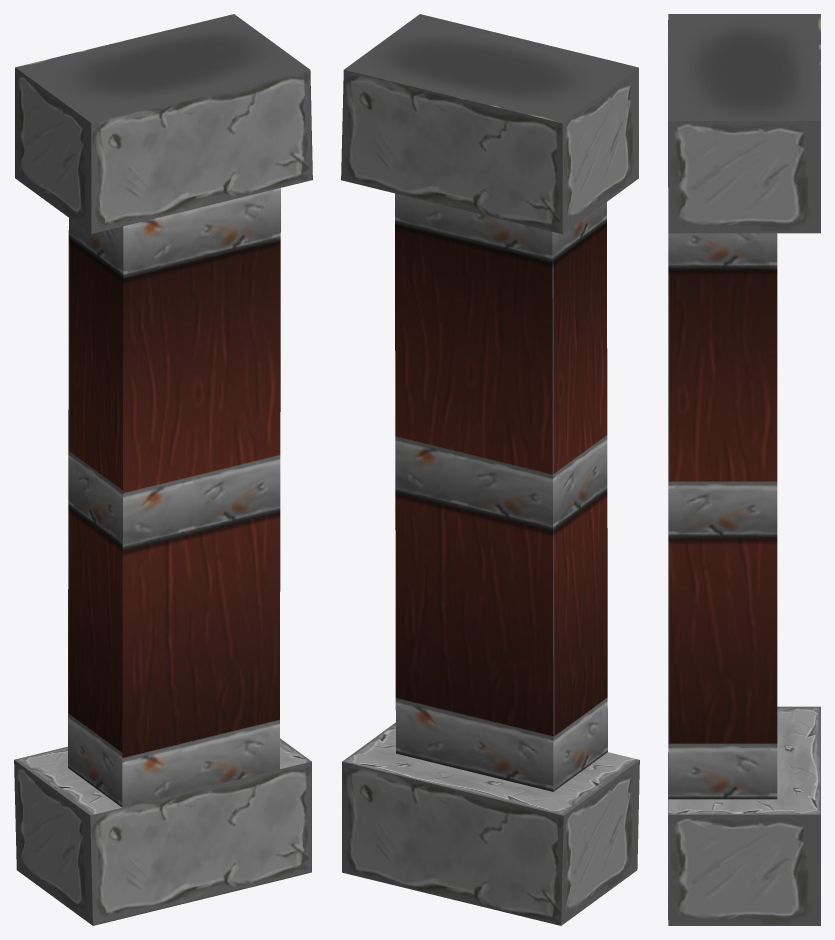
File: wallpillar.FBX
3 renders of one model, left to right at view 1: azimuth 30°, elevation 25°; view 2: azimuth 150°, elevation 25°; view 3: azimuth 270°, elevation 25°, orthographic.
Parts seen in each view (by area): view 1: wallpillar; view 2: wallpillar; view 3: wallpillar.
Boxes of the visible parts, x1,y1,x2,y2 form: wallpillar: (14, 14, 312, 925); wallpillar: (341, 14, 639, 925); wallpillar: (668, 14, 820, 925).
Size of the model in its own units: 67.25 by 232 by 39.95.
